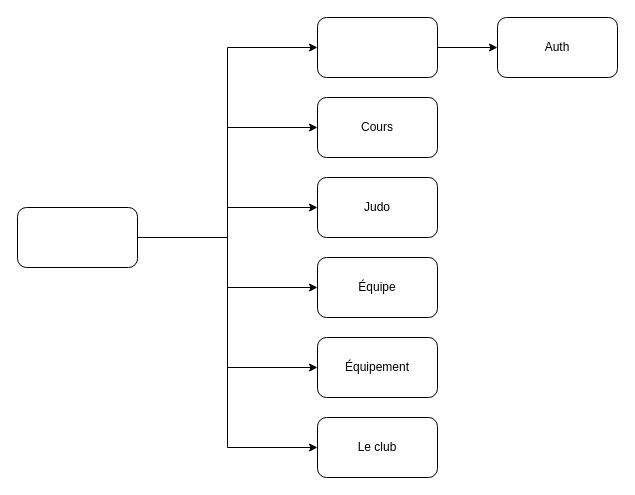
Image size: 635x495. Some labels were removed from this diagram. The centre of each missing label's shape, as x and y in pixels:
Accueil: the point at 77,237
Gestion: the point at 377,47
